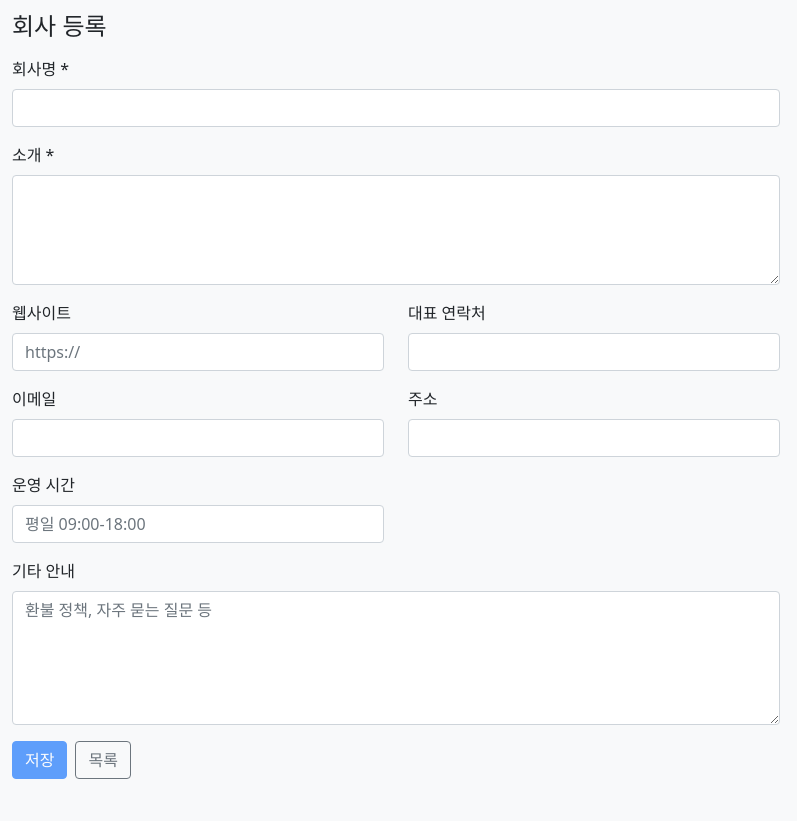
it: CompanyFormView › shows the duplicate-name error on the name field (409)
Type "오케이테크" into the field with id "company-name" at (396, 108), box left=12, top=89, right=780, bottom=127
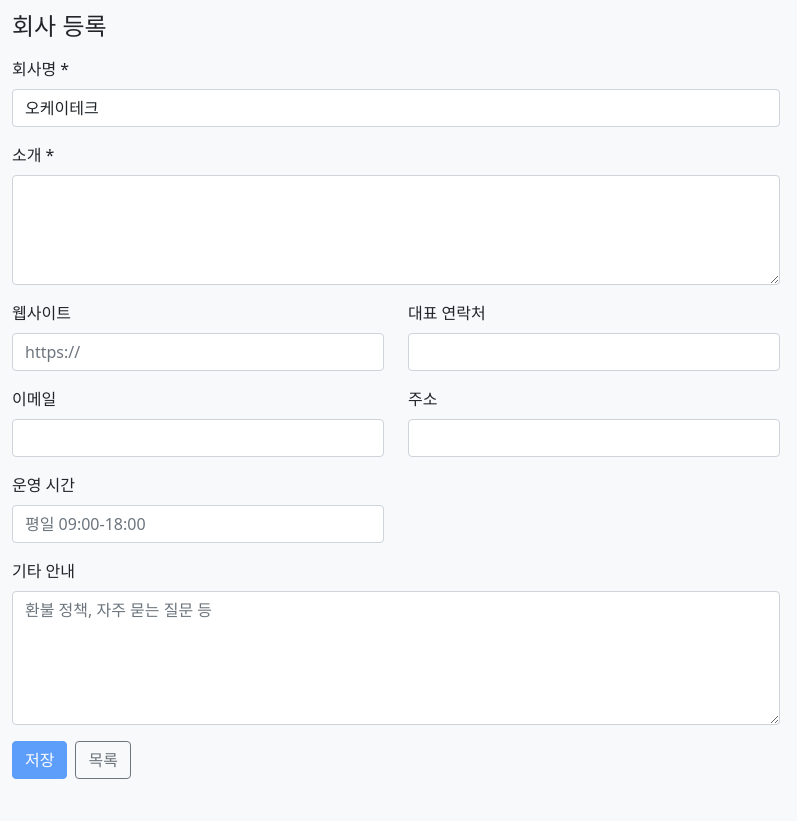
Type "소개" into the text box with id "company-description" at (396, 230), box left=12, top=175, right=780, bottom=285
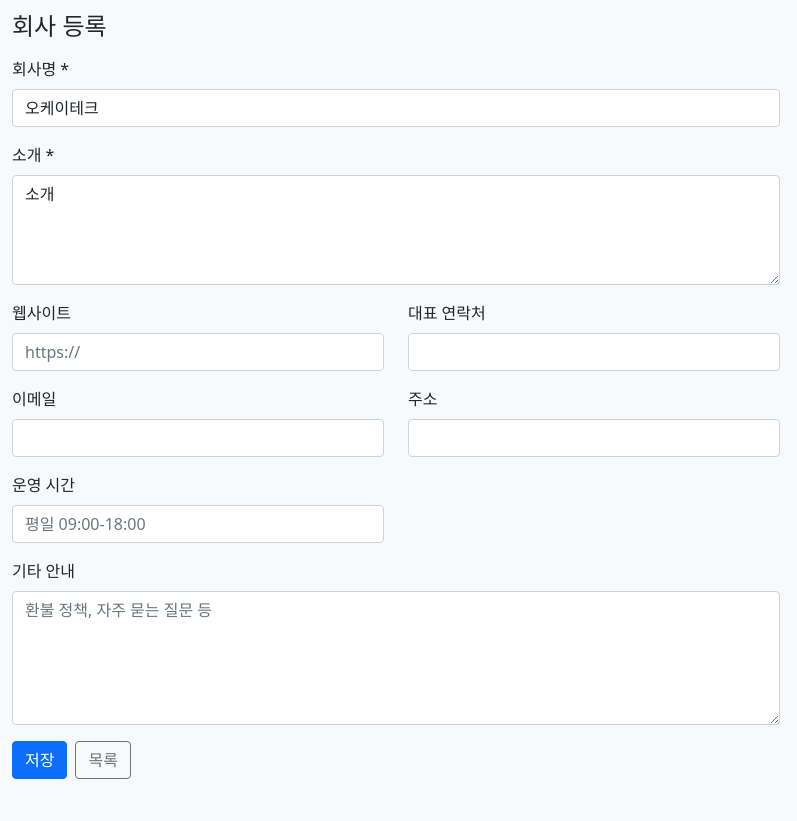
Submit the form
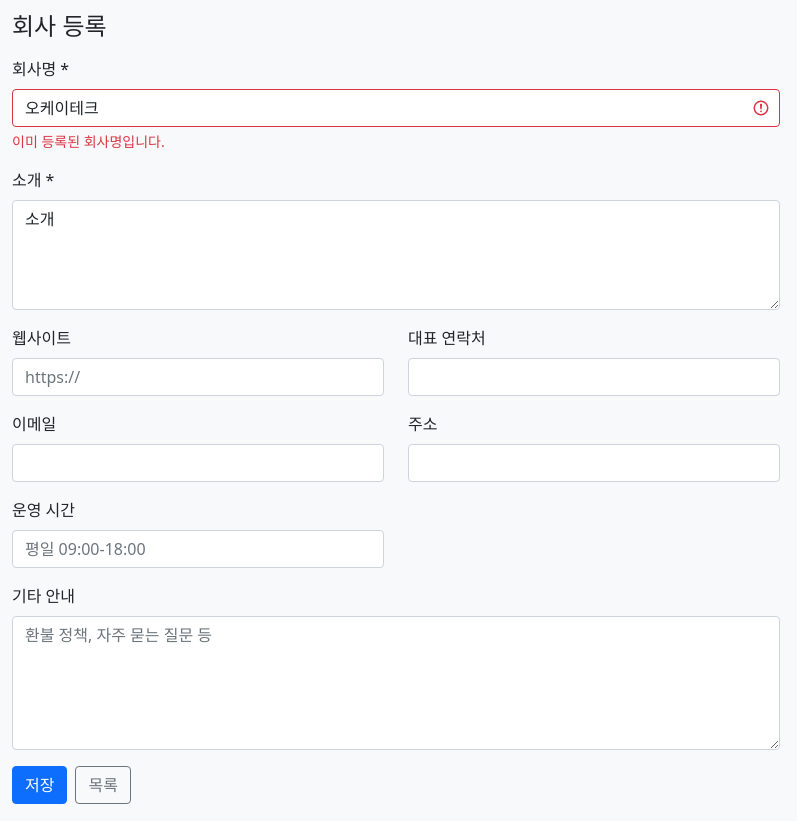
Now the text "이미 등록된 회사명입니다." is shown, box left=12, top=132, right=165, bottom=151
